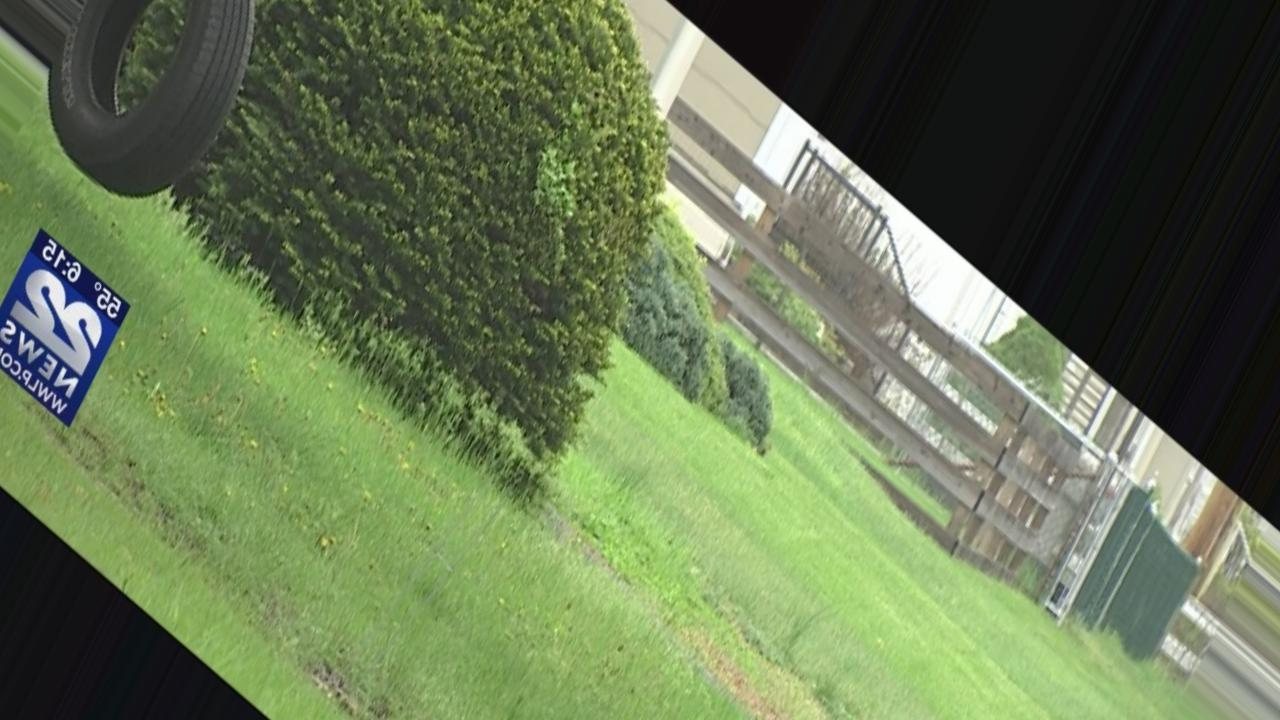patch: (646, 572, 776, 684)
